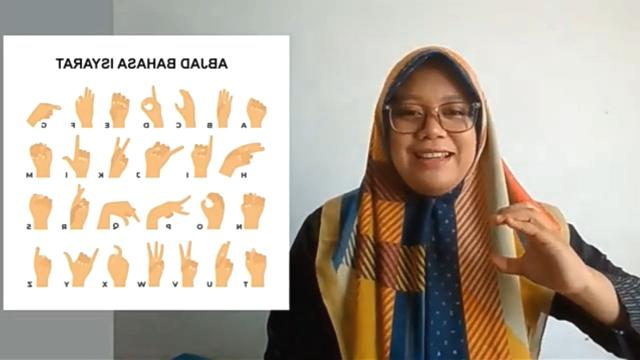C: (486, 202, 582, 298)
